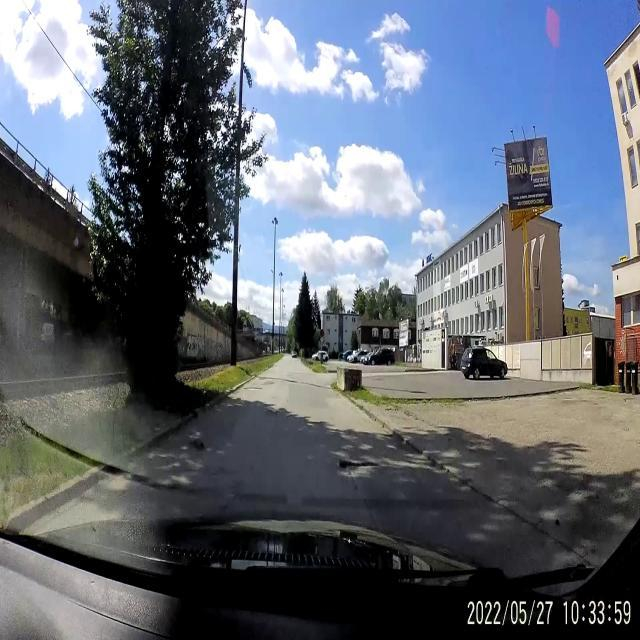Manhole: (243, 385, 263, 393)
Pothole: (337, 454, 382, 478)
